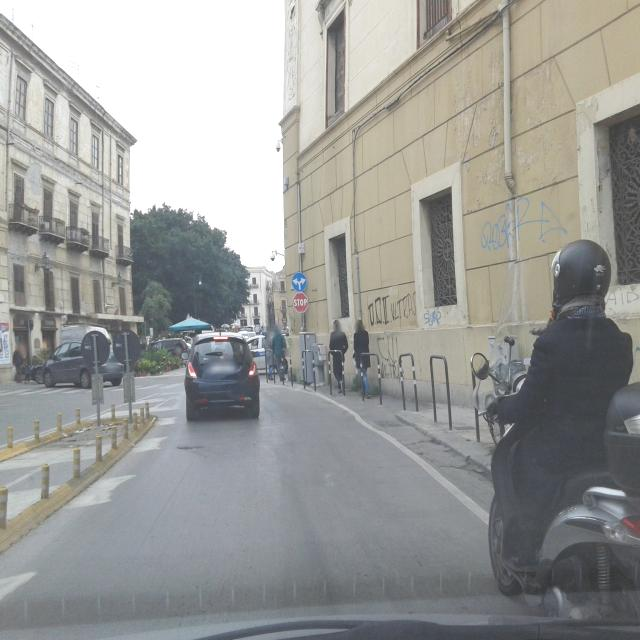bike: (479, 240, 640, 600), (481, 359, 640, 603)
car: (184, 332, 260, 420), (41, 325, 125, 389)
